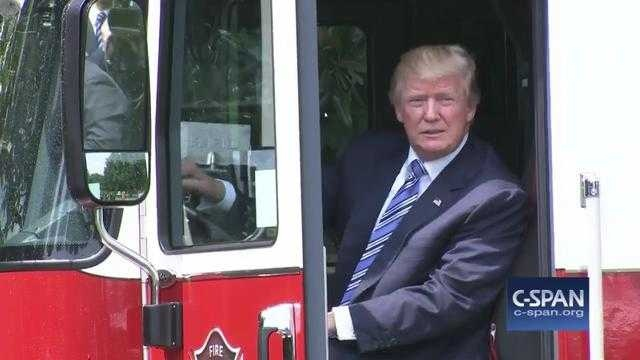Fire Truck: (6, 0, 327, 358)
